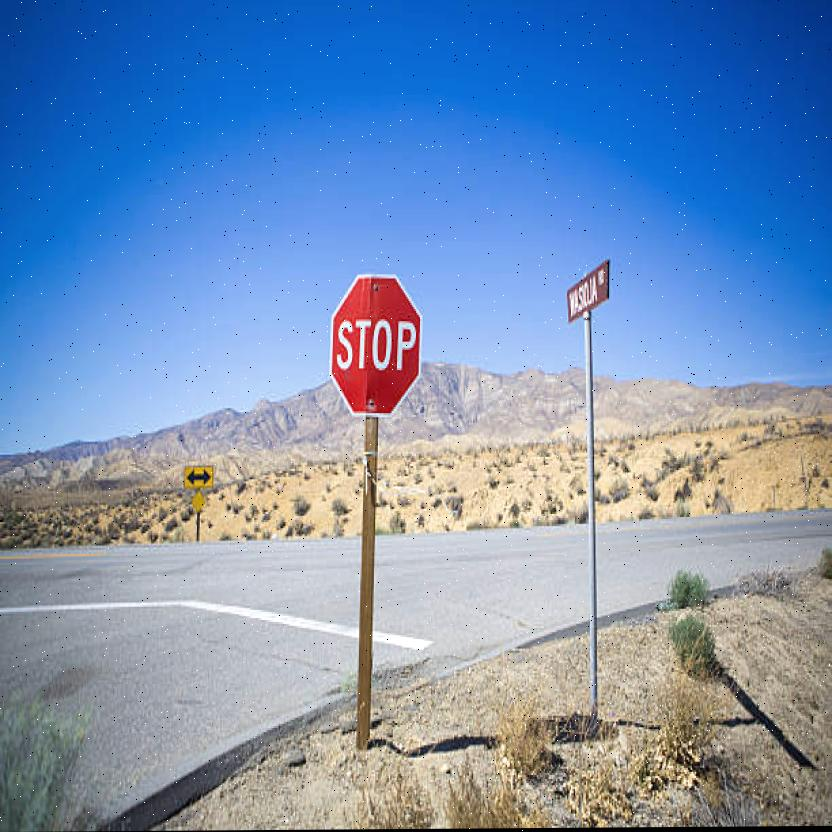Pole: (356, 419, 382, 743), (582, 315, 598, 727)
Sign: (330, 273, 422, 416)
